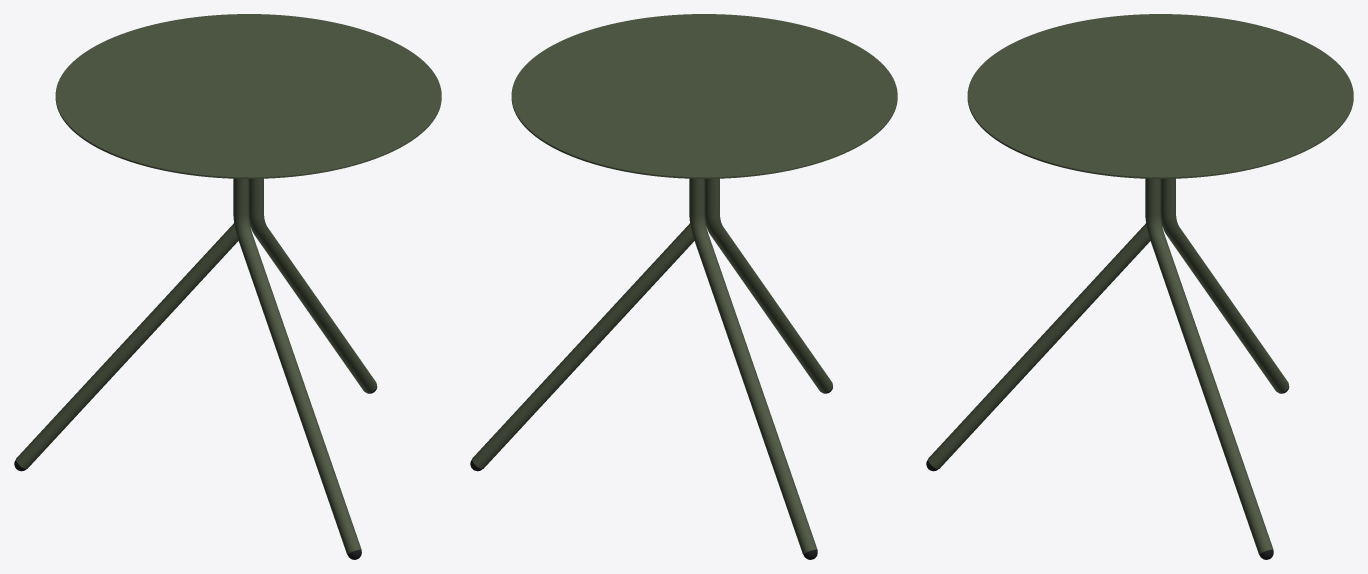
Rendered from table-tripod.glb.
3 views of the same model, side by side, from view 1: azimuth 30°, elevation 25°; view 2: azimuth 150°, elevation 25°; view 3: azimuth 270°, elevation 25° (orthographic).
Parts seen in each view (by area): view 1: rb_table_tripod_blue; view 2: rb_table_tripod_blue; view 3: rb_table_tripod_blue.
Boxes of the visible parts, left/top/right/bottom form: rb_table_tripod_blue: left=14, top=14, right=441, bottom=559; rb_table_tripod_blue: left=470, top=14, right=897, bottom=559; rb_table_tripod_blue: left=926, top=14, right=1353, bottom=559.
Size of the model in its own units: 0.7389 by 0.7577 by 0.7748.
